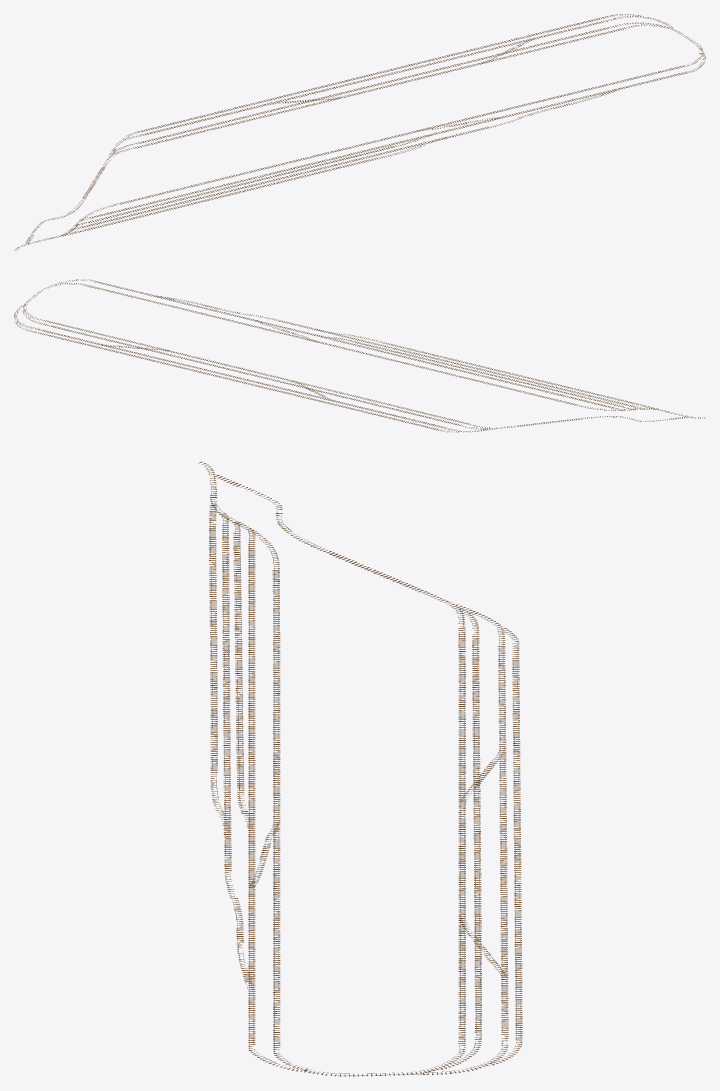
Rendered from Rails-v1.glb.
3 views of the same model, one above another, from view 1: azimuth 30°, elevation 25°; view 2: azimuth 150°, elevation 25°; view 3: azimuth 270°, elevation 25° (orthographic). The views are drawn at different scales.
Parts seen in each view (by area): view 1: Railroad2.001; view 2: Railroad2.001; view 3: Railroad2.001.
Part boxes in pixels (bbox=[...]): Railroad2.001: bbox=[14, 14, 705, 250]; Railroad2.001: bbox=[14, 279, 705, 432]; Railroad2.001: bbox=[198, 461, 522, 1076].
Size of the model in its own units: 398 by 0.3583 by 89.
